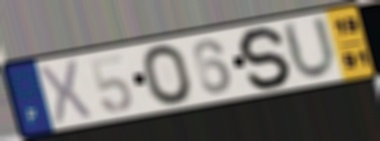5: (86, 52, 134, 114)
6: (191, 38, 235, 96)
O: (139, 42, 196, 107)
S: (237, 25, 295, 90)
U: (278, 13, 340, 83)
X: (37, 57, 95, 126)
